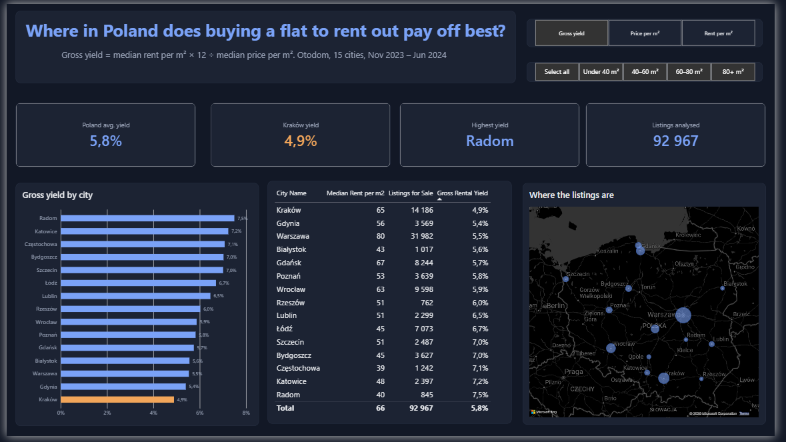

This screenshot's page, from the dashboard's own definition file:
{"tool":"powerbi","page":{"name":"Poland overview","canvas":[1920,1080],"ordinal":0},"visuals":[{"type":"tableEx","fields":{"Values":["City.City Name","_Measures.Median Rent per m2","_Measures.Listings for Sale","_Measures.Gross Rental Yield"]},"box":[653.3,443.3,610,606.7],"z":0},{"type":"clusteredBarChart","fields":{"Category":["City.City Name"],"Y":["_Measures.Gross Rental Yield"]},"box":[22.5,447.5,608,607],"z":1000},{"type":"map","title":"Where the listings are","fields":{"Category":["City.Map Location"],"Size":["_Measures.Listings for Sale"]},"box":[1290,446.7,608,604],"z":2000},{"type":"cardVisual","fields":{"Data":["_Measures.Gross Rental Yield"]},"box":[23.3,246.7,450,160],"z":3000},{"type":"cardVisual","fields":{"Data":["_Measures.Best City"]},"box":[983.3,246.7,450,160],"z":4000},{"type":"cardVisual","fields":{"Data":["_Measures.Yield Krakow"]},"box":[510,246.7,450,160],"z":5000},{"type":"cardVisual","fields":{"Data":["_Measures.Listings for Sale"]},"box":[1446.7,246.7,450,160],"z":6000},{"type":"textbox","box":[23.3,16.7,1250,180],"z":7000},{"type":"slicer","fields":{"Values":["Metric.Metric"]},"box":[1300,37.5,590,70],"z":8000},{"type":"slicer","fields":{"Values":["Size Groups.Size Group"]},"box":[1299.2,145.4,590,50],"z":9000}]}

Visuals, with their boxes in screenshot pixels (x1, y1, x2, y2), scaled from the page's 1920x1080 canvas onto the 786x442 screenshot:
tableEx - City.City Name x _Measures.Median Rent per m2: bbox=(267, 181, 517, 430)
clusteredBarChart - City.City Name x _Measures.Gross Rental Yield: bbox=(9, 183, 258, 432)
"Where the listings are" map: bbox=(528, 183, 777, 430)
cardVisual - _Measures.Gross Rental Yield: bbox=(10, 101, 194, 166)
cardVisual - _Measures.Best City: bbox=(403, 101, 587, 166)
cardVisual - _Measures.Yield Krakow: bbox=(209, 101, 393, 166)
cardVisual - _Measures.Listings for Sale: bbox=(592, 101, 776, 166)
textbox: bbox=(10, 7, 521, 81)
slicer - Metric.Metric: bbox=(532, 15, 774, 44)
slicer - Size Groups.Size Group: bbox=(532, 60, 773, 80)
